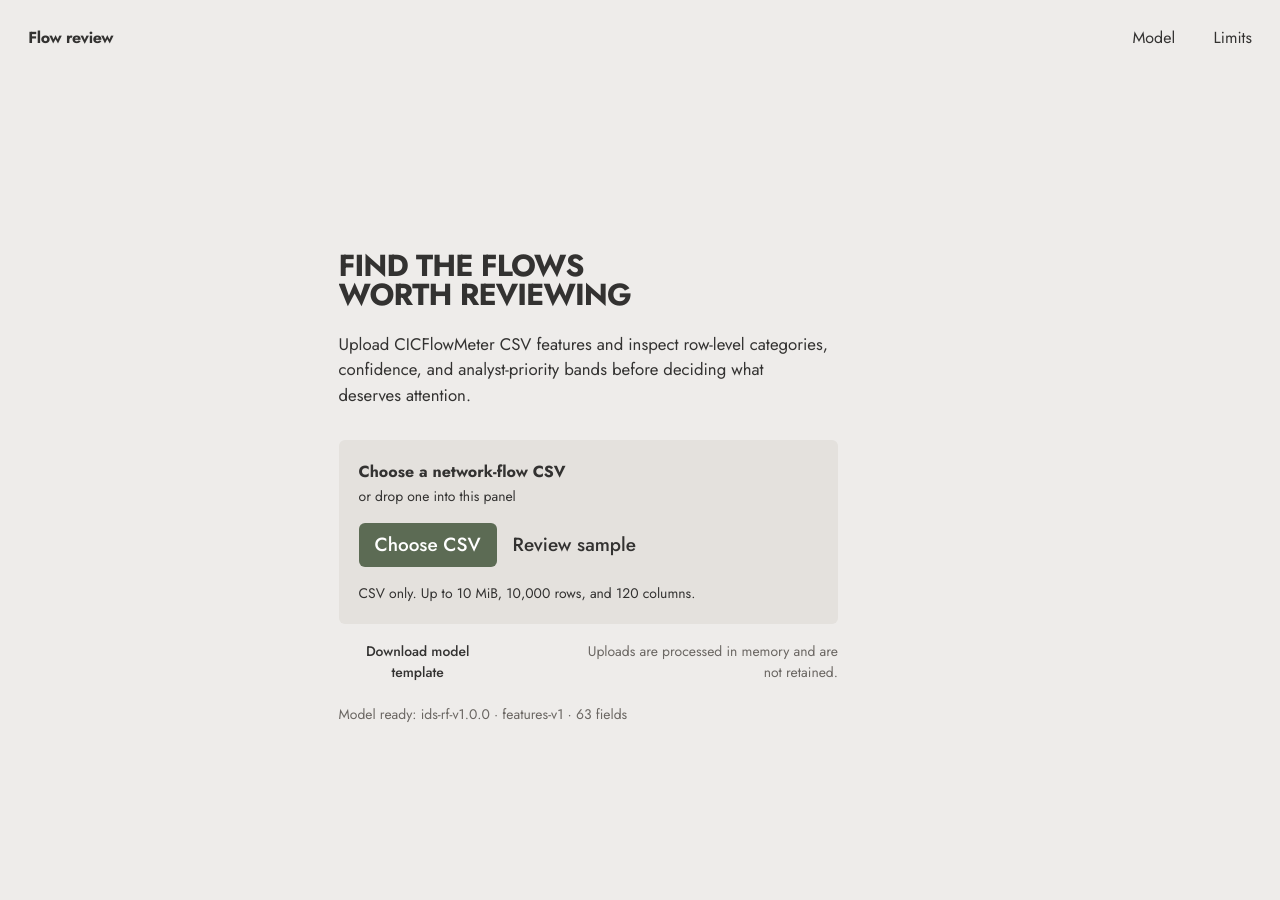
Test: App live API states › renders structured API validation without echoing row values
Expected: the text "Model ready: ids-rf-v1.0.0 · features-v1 · 63 fields" is shown, [338,704,627,725]
Click the button "Review sample" at (574, 545), box [513,523,636,567]
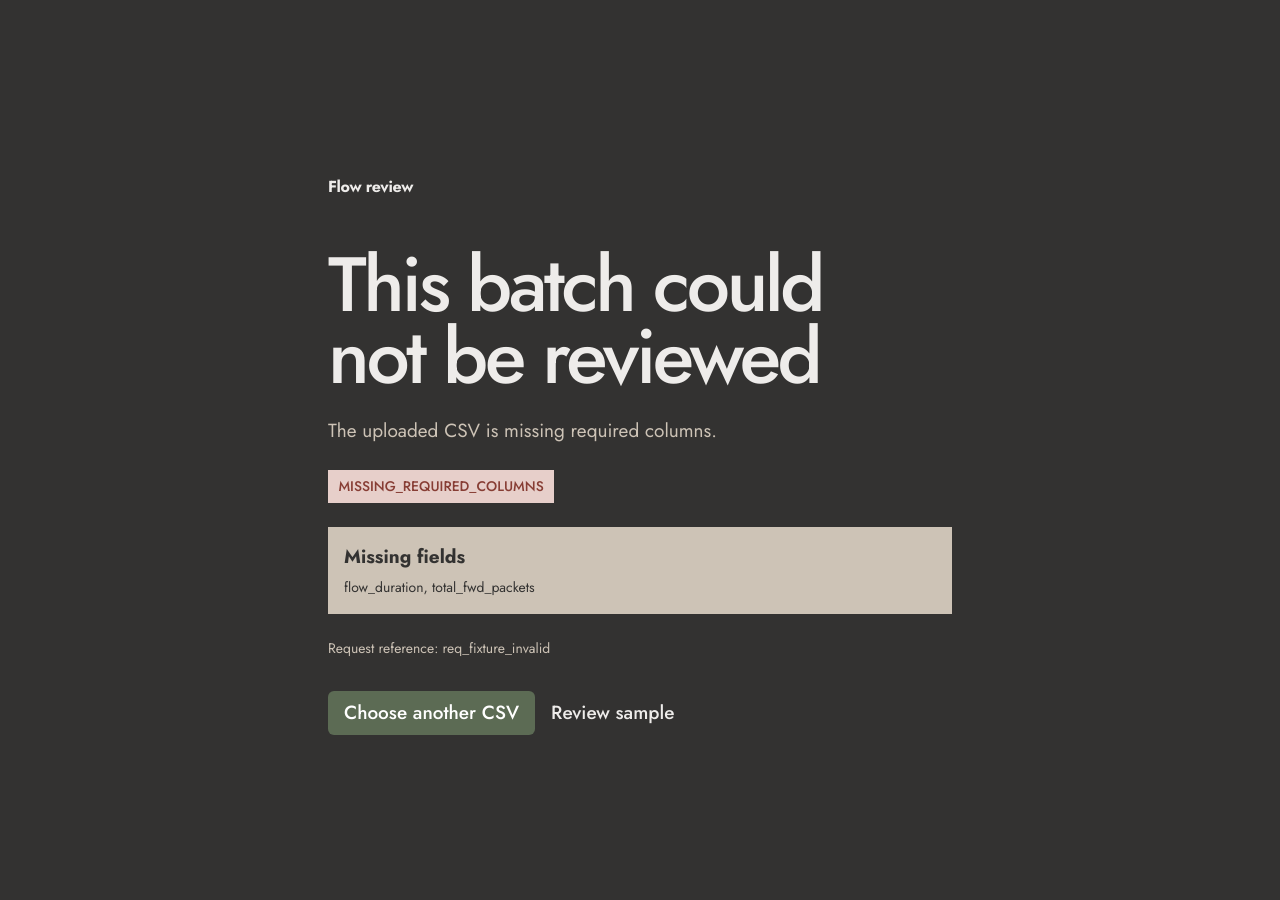
Expected: the text "MISSING_REQUIRED_COLUMNS" is shown, [328,470,554,503]
Expected: the text "flow_duration, total_fwd_packets" is shown, [344,577,535,597]
Expected: the text "Request reference: req_fixture_invalid" is shown, [328,638,550,658]
